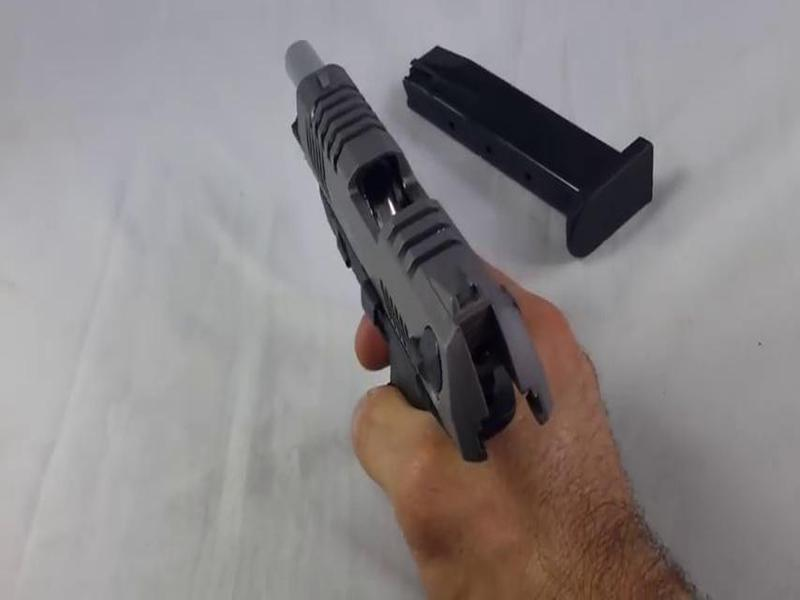Pistola: (264, 24, 551, 458)
